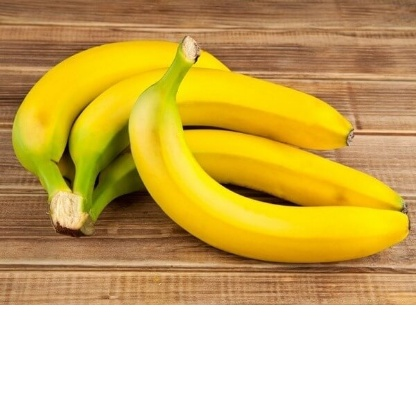chuoi: (7, 30, 409, 279)
